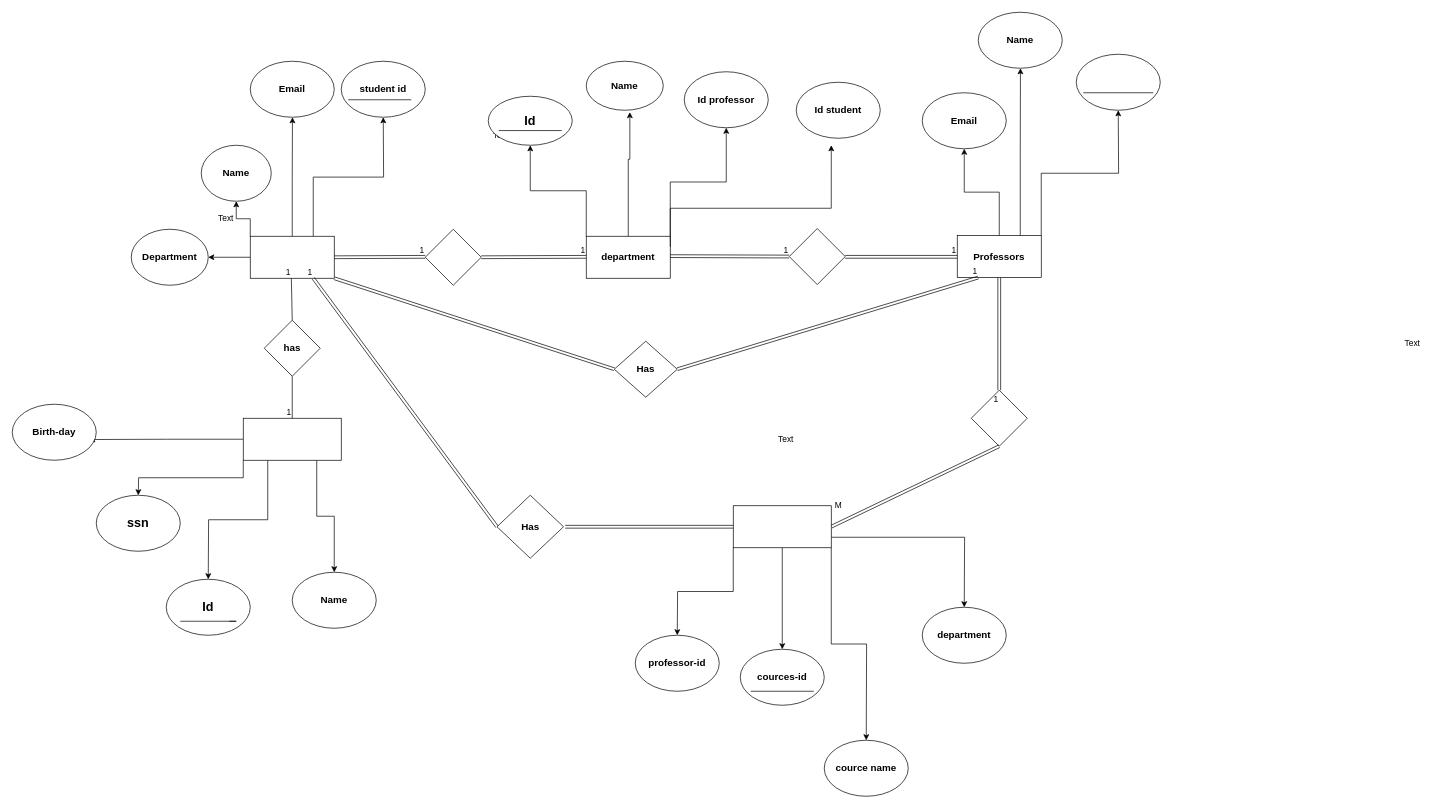
Image size: 1442x809. Some labels were removed from this diagram. Here are the shapes that lost their labels. From the top down, the centre of each, then its label:
(1118,82): professors-id
(292,257): students
(453,257): Belongs to
(817,256): Belogs to
(999,418): Gives
(292,439): enrollment
(782,526): cources
